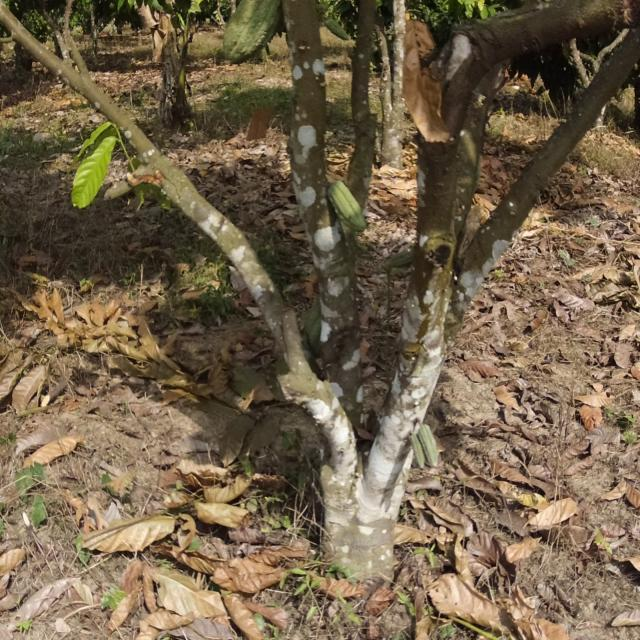Immature: (322, 171, 376, 236), (402, 419, 446, 495)
Mature_Unripe: (216, 1, 307, 67)
